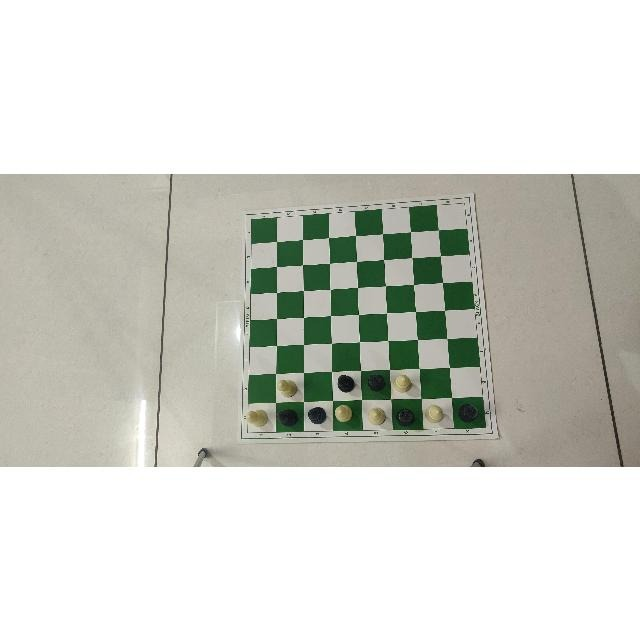black-bishop: (458, 401, 478, 423), (276, 407, 298, 426), (307, 406, 327, 424), (337, 373, 355, 393), (395, 407, 415, 425), (368, 373, 386, 391)
white-bishop: (276, 376, 298, 397), (393, 373, 413, 392), (246, 408, 268, 425), (334, 403, 353, 422), (425, 404, 444, 423), (368, 407, 386, 425)
